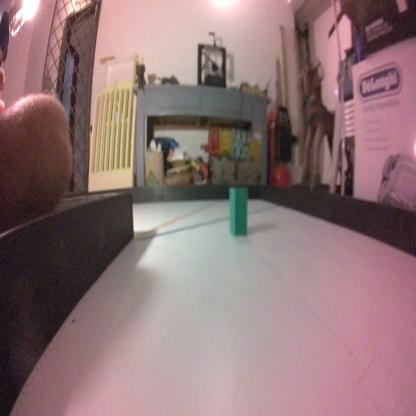green: (227, 183, 249, 235)
